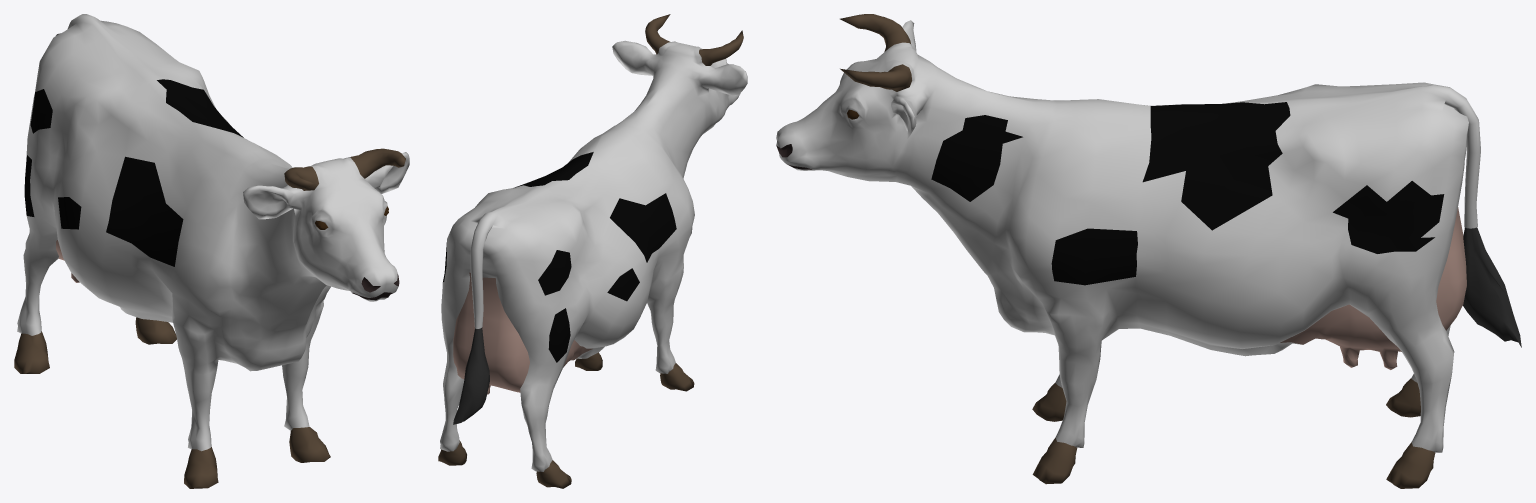
File: Cow.fbx
3 views of the same model, side by side, from view 1: azimuth 30°, elevation 25°; view 2: azimuth 150°, elevation 25°; view 3: azimuth 270°, elevation 25° (orthographic). The views are drawn at different scales.
Parts seen in each view (by area): view 1: Mucca1; view 2: Mucca1; view 3: Mucca1.
Boxes of the visible parts, box(x1,y1,x2,y2) form: Mucca1: box(14, 14, 409, 488); Mucca1: box(438, 14, 747, 488); Mucca1: box(776, 14, 1521, 488).
Bounding box in the file's own units: 44.31 × 80.57 × 133.
